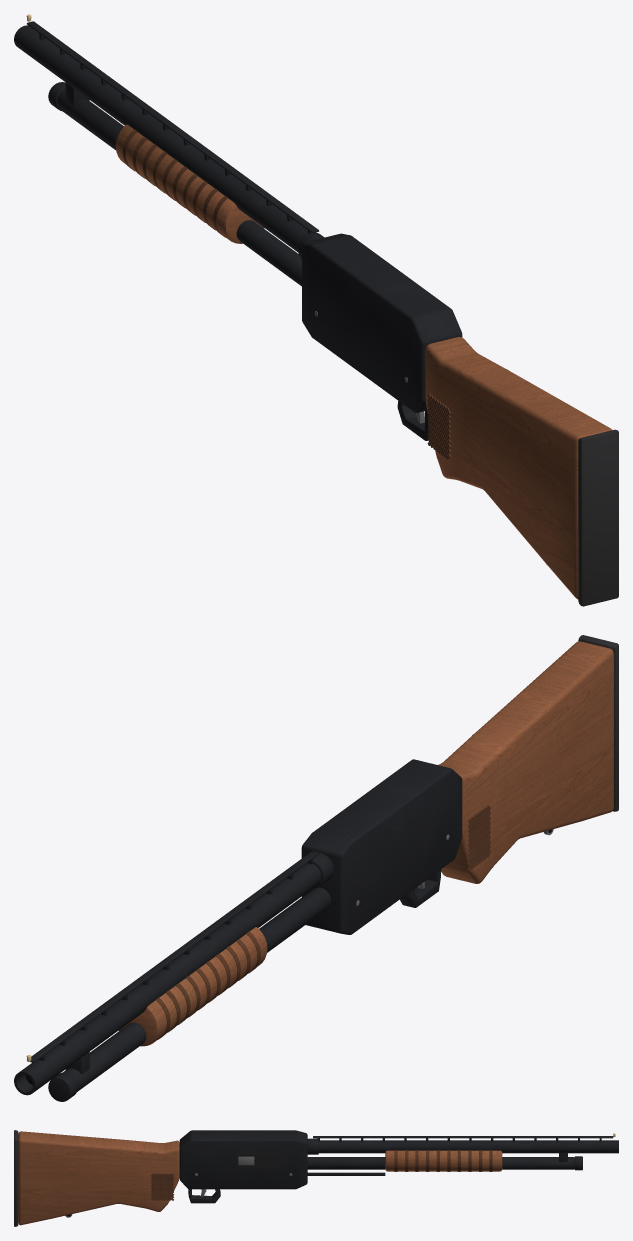
File: shotgun.glb
The picture shows the model from 3 angles, top to bottom: view 1: azimuth 30°, elevation 25°; view 2: azimuth 150°, elevation 25°; view 3: azimuth 270°, elevation 25°; orthographic projection. The views are drawn at different scales.
Visible parts, largest first — view 1: shotgun; view 2: shotgun; view 3: shotgun.
Boxes of the visible parts, box(x1,y1,x2,y2) form: shotgun: box(14, 14, 618, 606); shotgun: box(14, 635, 618, 1101); shotgun: box(14, 1130, 618, 1226).
Bounding box in the file's own units: 0.0488 × 0.1764 × 1.09.
Materials: 8 (4 with a texture image).
